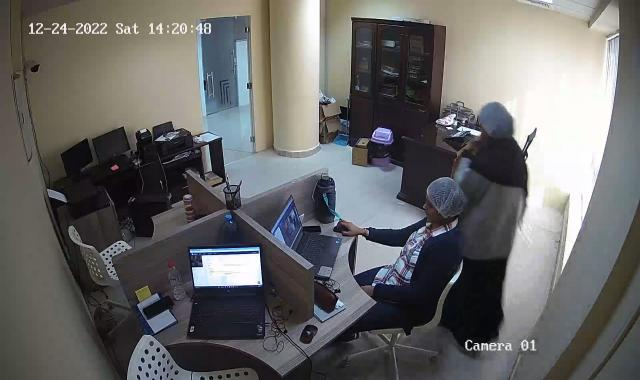hairnet: (423, 180, 463, 222), (476, 100, 514, 138)
